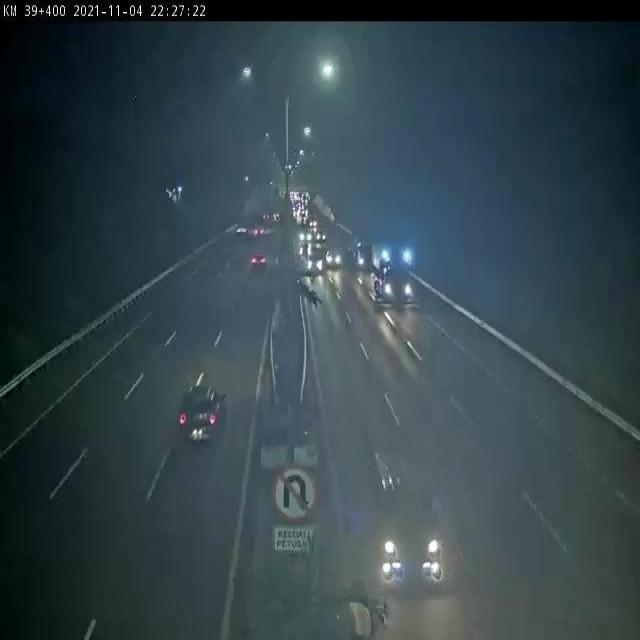car: (373, 451, 444, 593), (177, 387, 221, 440), (248, 254, 268, 274)
truck-m-: (370, 235, 411, 302)
